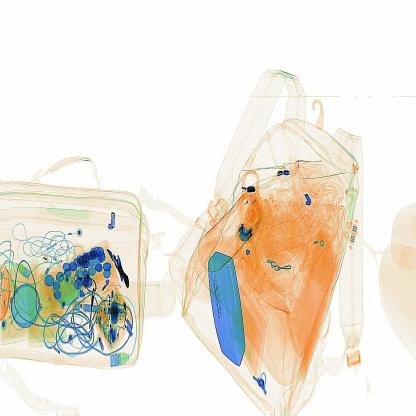wrench: (101, 239, 139, 292)
